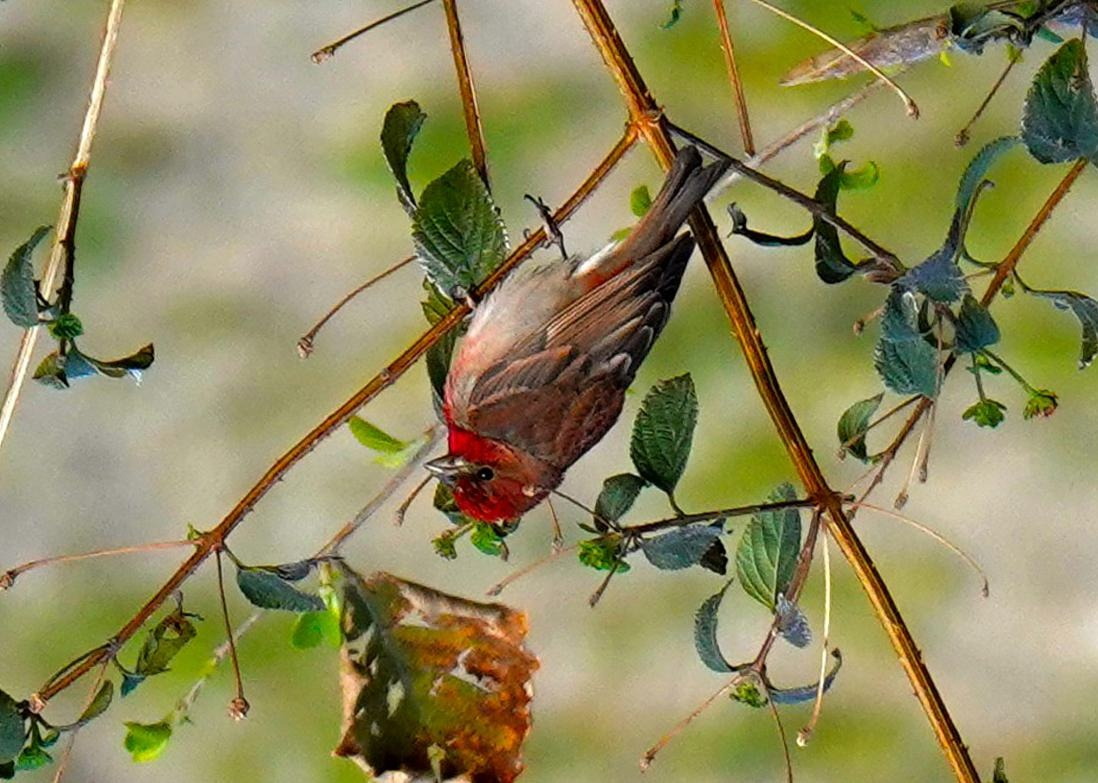rosefinch: (422, 178, 736, 528)
